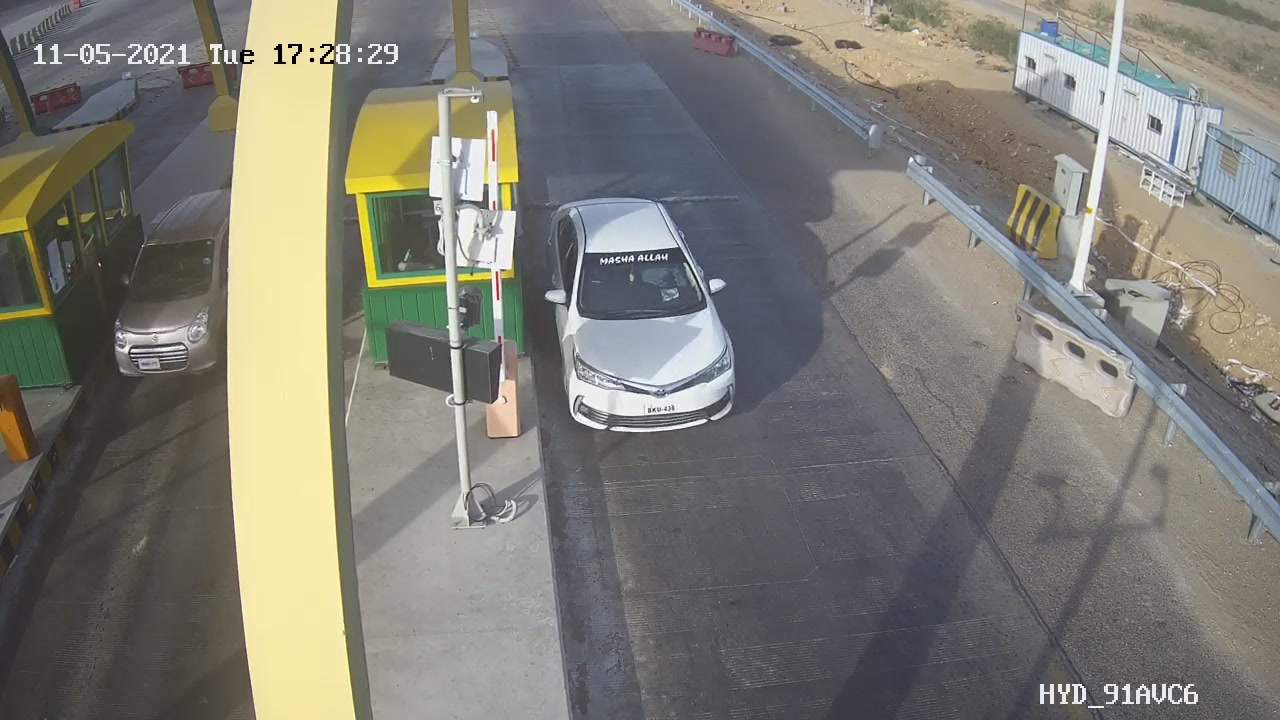F1: (520, 182, 761, 446)
